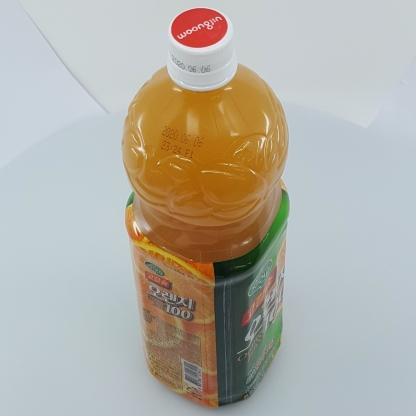--------1-5L: (121, 7, 289, 408)
